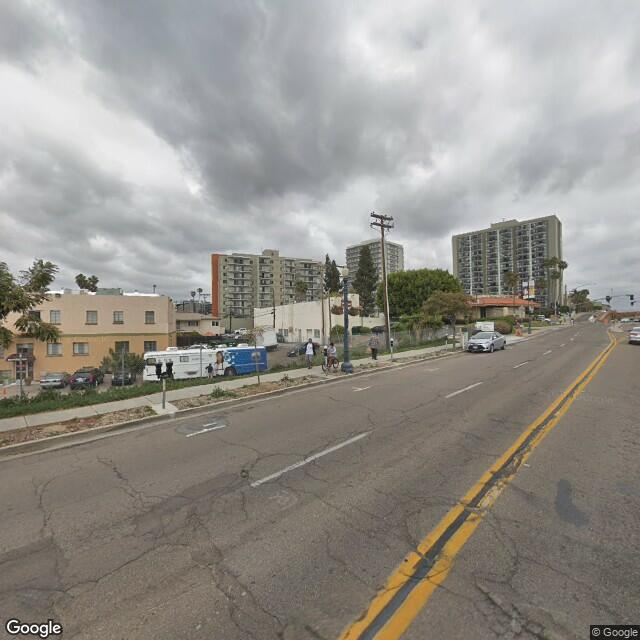road line: (222, 414, 390, 504), (438, 424, 529, 567), (440, 360, 524, 407)
